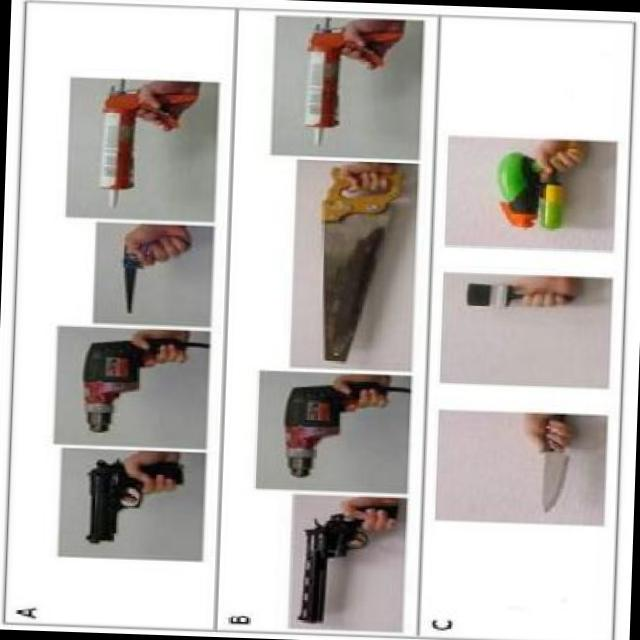gun: (292, 508, 394, 626), (70, 453, 187, 542)
knife: (528, 410, 590, 510)
